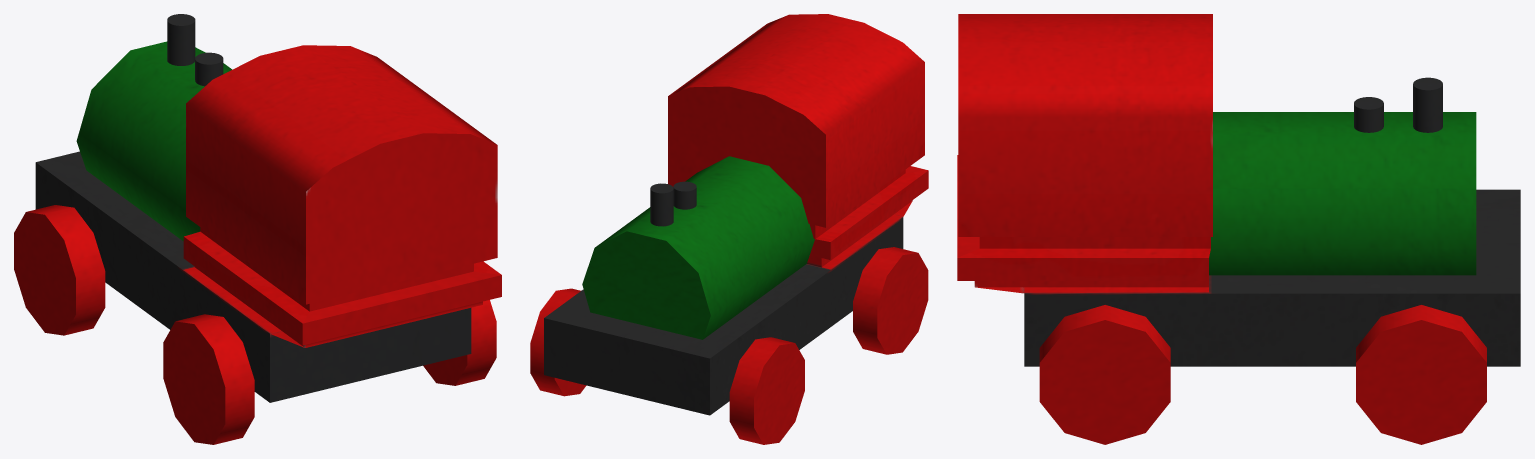
Rendered from train_lok.fbx.
The picture shows the model from 3 angles, left to right: view 1: azimuth 30°, elevation 25°; view 2: azimuth 150°, elevation 25°; view 3: azimuth 270°, elevation 25°; orthographic projection. The views are drawn at different scales.
Visible parts, largest first — view 1: polySurface10; view 2: polySurface10; view 3: polySurface10.
Part boxes in pixels (<box>): polySurface10: <box>14,14,501,444</box>; polySurface10: <box>530,14,928,444</box>; polySurface10: <box>957,14,1520,444</box>.
Size of the model in its own units: 9.26 by 10.47 by 15.74.
